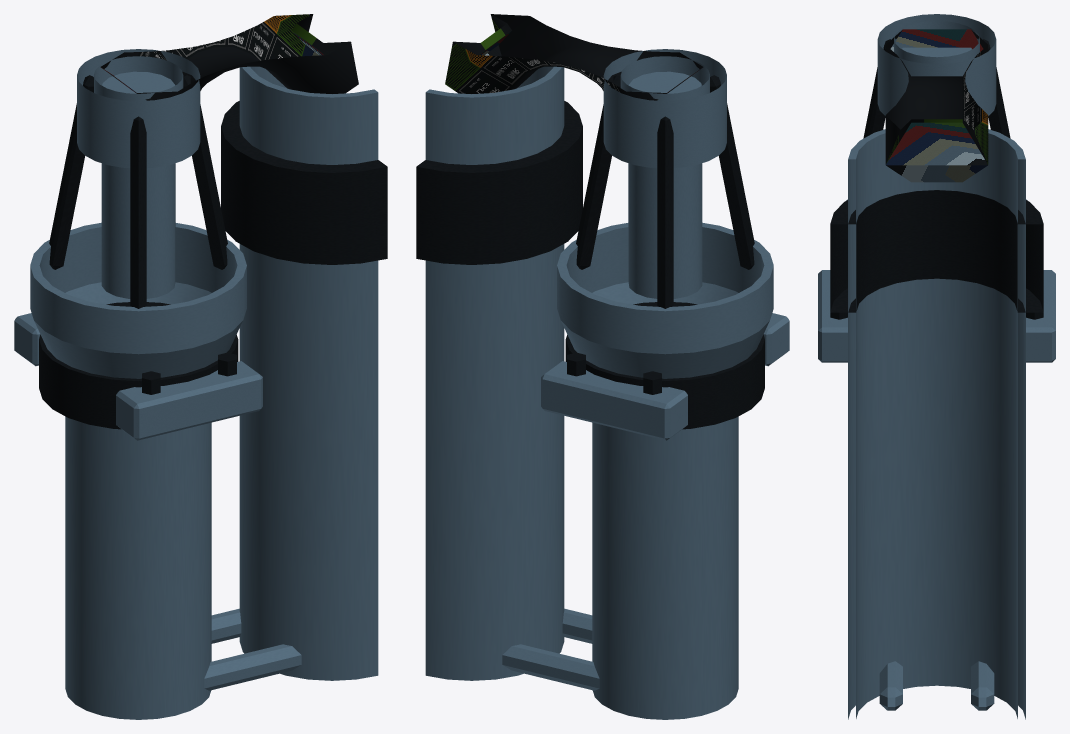
The model's file is cell_8.obj.
The picture shows the model from 3 angles, left to right: view 1: azimuth 30°, elevation 25°; view 2: azimuth 150°, elevation 25°; view 3: azimuth 270°, elevation 25°; orthographic projection. The views are drawn at different scales.
Visible parts, largest first — view 1: cell_8; view 2: cell_8; view 3: cell_8.
Part boxes in pixels (bbox=[...]): cell_8: bbox=[14, 14, 387, 719]; cell_8: bbox=[416, 14, 789, 719]; cell_8: bbox=[818, 14, 1055, 719].
Size of the model in its own units: 0.49 by 1 by 0.365.
